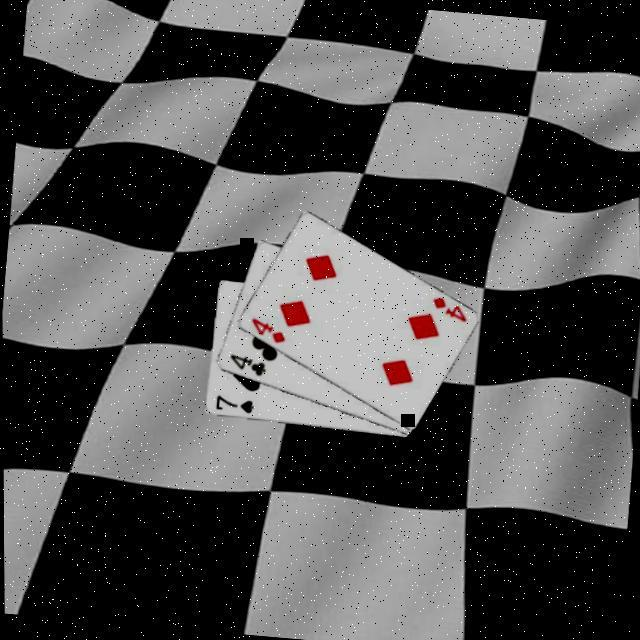4C: (222, 350, 266, 380)
4D: (426, 294, 469, 325), (245, 316, 287, 346)
7S: (210, 393, 256, 417)
